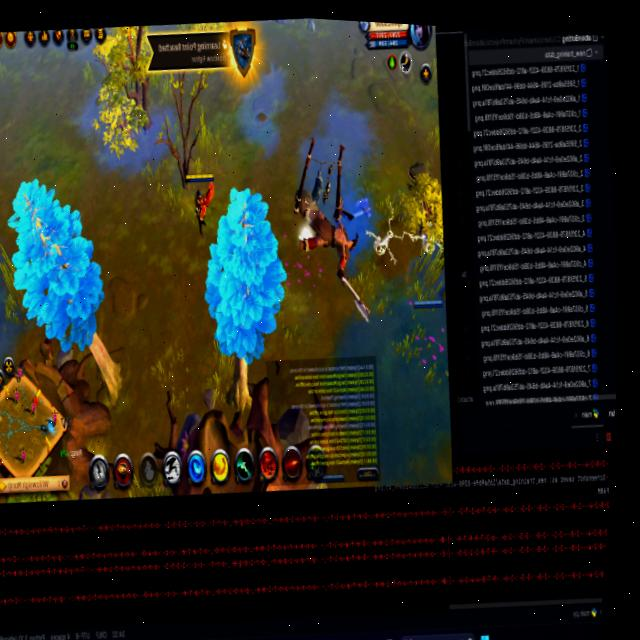ore: (400, 153, 437, 192)
red: (178, 163, 223, 240), (407, 291, 446, 314), (313, 468, 346, 483)
stone: (296, 223, 316, 250)
wisp caged: (0, 158, 142, 422), (191, 177, 309, 417)
